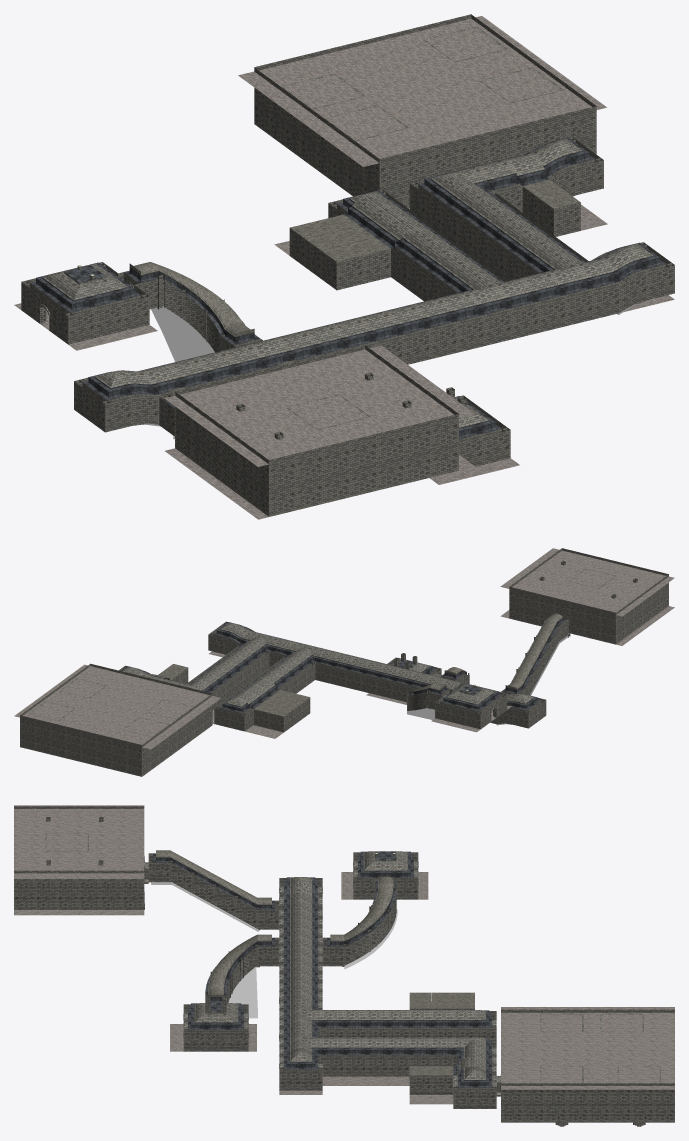
File: DungeonLevel.dae
3 views of the same model, one above another, from view 1: azimuth 30°, elevation 25°; view 2: azimuth 150°, elevation 25°; view 3: azimuth 270°, elevation 25° (orthographic). The views are drawn at different scales.
Visible parts, largest first — view 1: Room1-0; view 2: Room1-0; view 3: Room1-0.
Part boxes in pixels (box(x1,y1,x2,y2)): Room1-0: box(14, 14, 674, 519); Room1-0: box(14, 548, 674, 776); Room1-0: box(14, 805, 674, 1126).
Size of the model in its own units: 12094 by 2995 by 14250.
